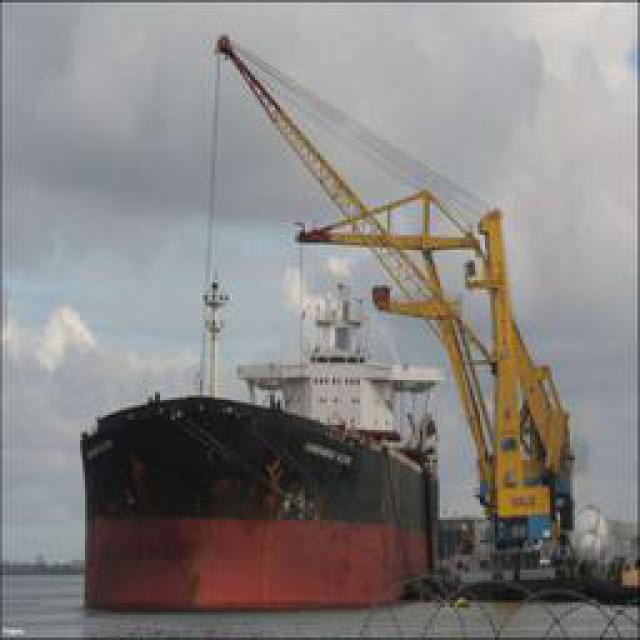Ship: (69, 260, 456, 619)
